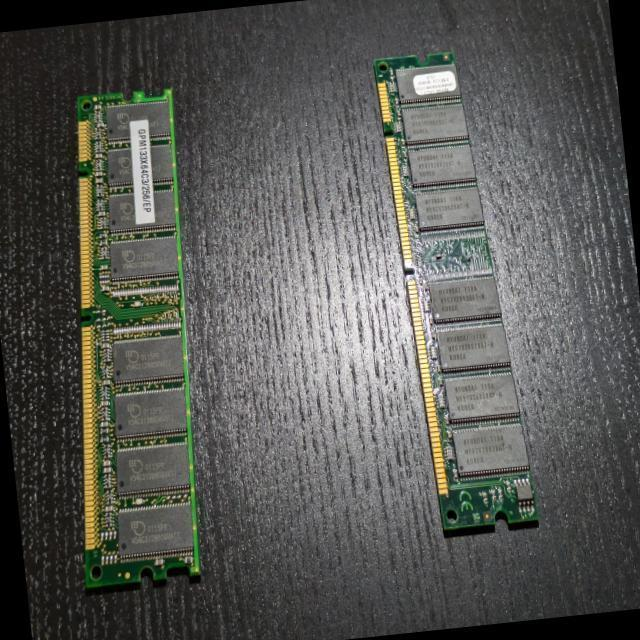RAM: (33, 84, 225, 590), (371, 45, 541, 535)
